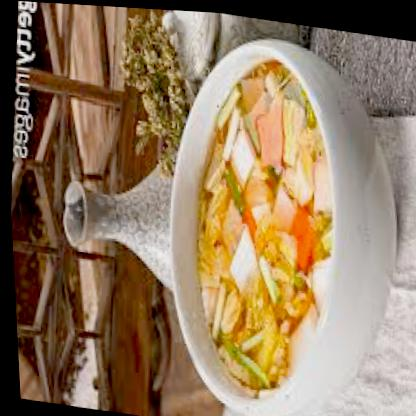nabak Kimchi: (168, 43, 357, 412)
